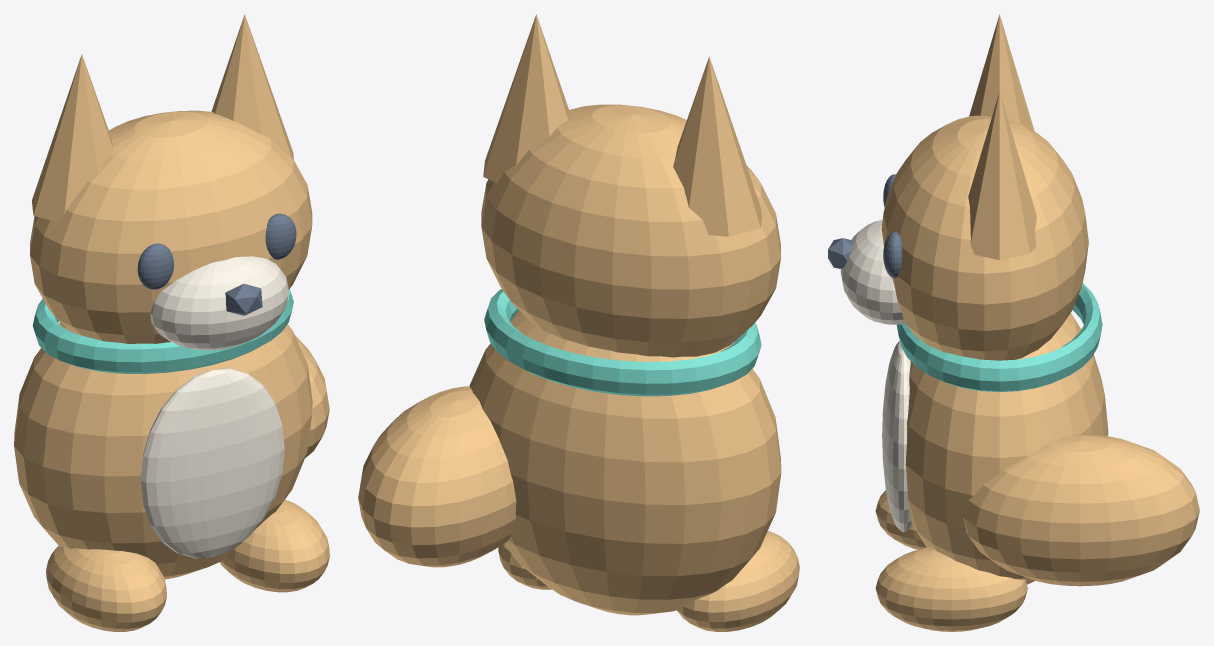
3 renders of one model, left to right at view 1: azimuth 30°, elevation 25°; view 2: azimuth 150°, elevation 25°; view 3: azimuth 270°, elevation 25°, orthographic. The views are drawn at different scales.
Parts seen in each view (by area): view 1: Cabeça, Corpo, Peito, Focinho, Pata, Colar, Orelha, Pata.001, Orelha.001, Cauda, Olho, Olho.001 (+1 smaller); view 2: Corpo, Cabeça, Cauda, Colar, Orelha, Orelha.001, Pata, Pata.001; view 3: Cabeça, Cauda, Corpo, Pata.001, Orelha.001, Colar, Peito, Focinho, Orelha, Pata, Olho.001, Nariz.
Part boxes in pixels (x1,y1,x2,y2): Cabeça: [30, 110, 312, 343]; Corpo: [14, 322, 312, 579]; Peito: [140, 368, 284, 558]; Focinho: [150, 256, 288, 350]; Pata: [46, 546, 166, 631]; Colar: [32, 289, 293, 373]; Orelha: [32, 54, 113, 221]; Pata.001: [219, 499, 329, 592]; Orelha.001: [211, 14, 293, 159]; Cauda: [295, 335, 329, 457]; Olho: [137, 243, 173, 289]; Olho.001: [265, 213, 296, 259]; Corpo: [469, 311, 781, 615]; Cabeça: [481, 104, 781, 357]; Cauda: [358, 386, 516, 567]; Colar: [484, 289, 761, 396]; Orelha: [673, 56, 762, 236]; Orelha.001: [483, 14, 569, 183]; Pata: [677, 531, 799, 631]; Pata.001: [498, 544, 551, 589]; Cabeça: [881, 115, 1088, 360]; Cauda: [963, 434, 1199, 586]; Corpo: [905, 313, 1108, 584]; Pata.001: [875, 547, 1027, 631]; Orelha.001: [968, 92, 1036, 260]; Colar: [896, 283, 1102, 392]; Peito: [882, 341, 912, 531]; Focinho: [840, 220, 904, 324]; Orelha: [969, 14, 1034, 131]; Pata: [875, 490, 926, 549]; Olho.001: [883, 232, 902, 278]; Nariz: [828, 238, 853, 269].
Size of the model in its own units: 1.67 by 2.71 by 1.71.
